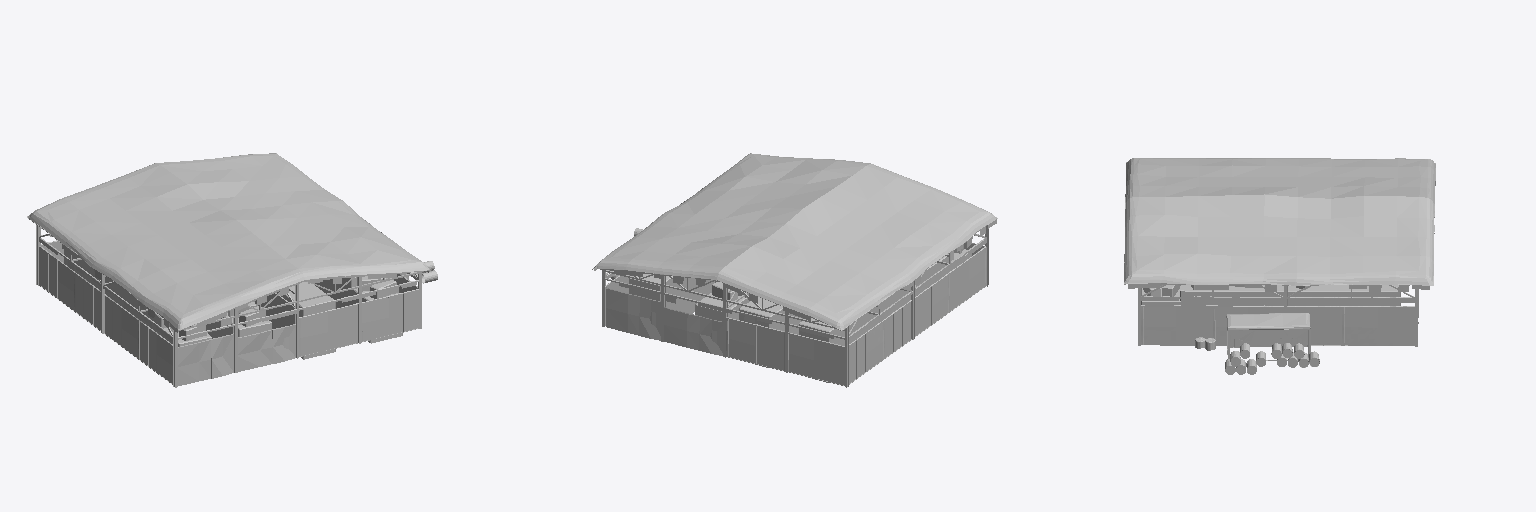
The model's file is barn3.obj.
The picture shows the model from 3 angles: view 1: azimuth 30°, elevation 25°; view 2: azimuth 150°, elevation 25°; view 3: azimuth 270°, elevation 25°; orthographic projection.
Visible parts, largest first — view 1: barn3; view 2: barn3; view 3: barn3.
Boxes of the visible parts, <box> form: barn3: <box>27,153,437,387</box>; barn3: <box>592,153,997,387</box>; barn3: <box>1124,158,1435,374</box>.
Size of the model in its own units: 0.7449 by 0.2218 by 0.6495.